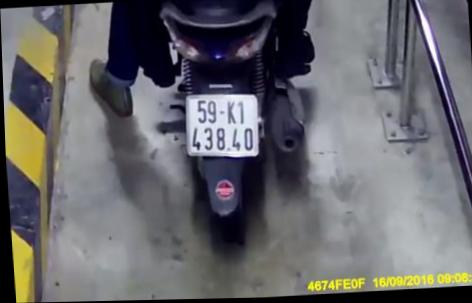LP: (180, 90, 262, 162)
